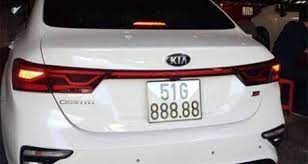Car number plates: (146, 80, 203, 120)
